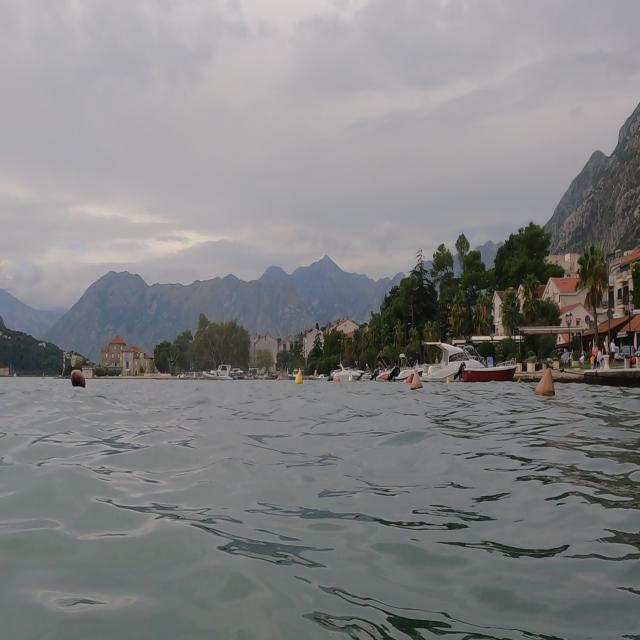boat: (422, 328, 521, 388), (328, 358, 370, 390), (202, 360, 244, 388)
buoy: (536, 360, 558, 408), (69, 366, 92, 396), (409, 366, 427, 396), (293, 364, 306, 394)
